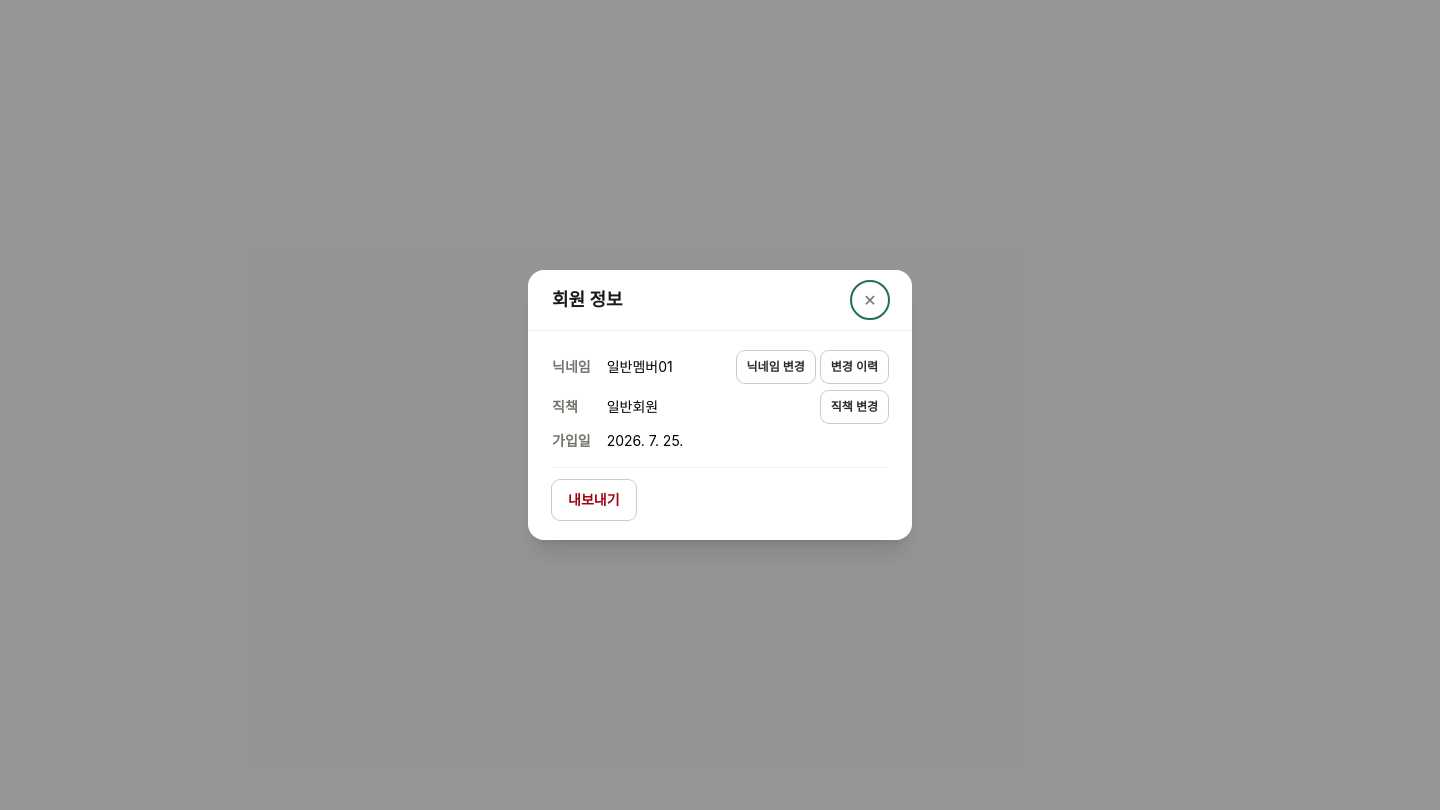
it: MemberInfoDialog › 직책 변경은 다음 대화상자에서 한다
Click the button "직책 변경": [854, 407] box [821, 391, 888, 423]
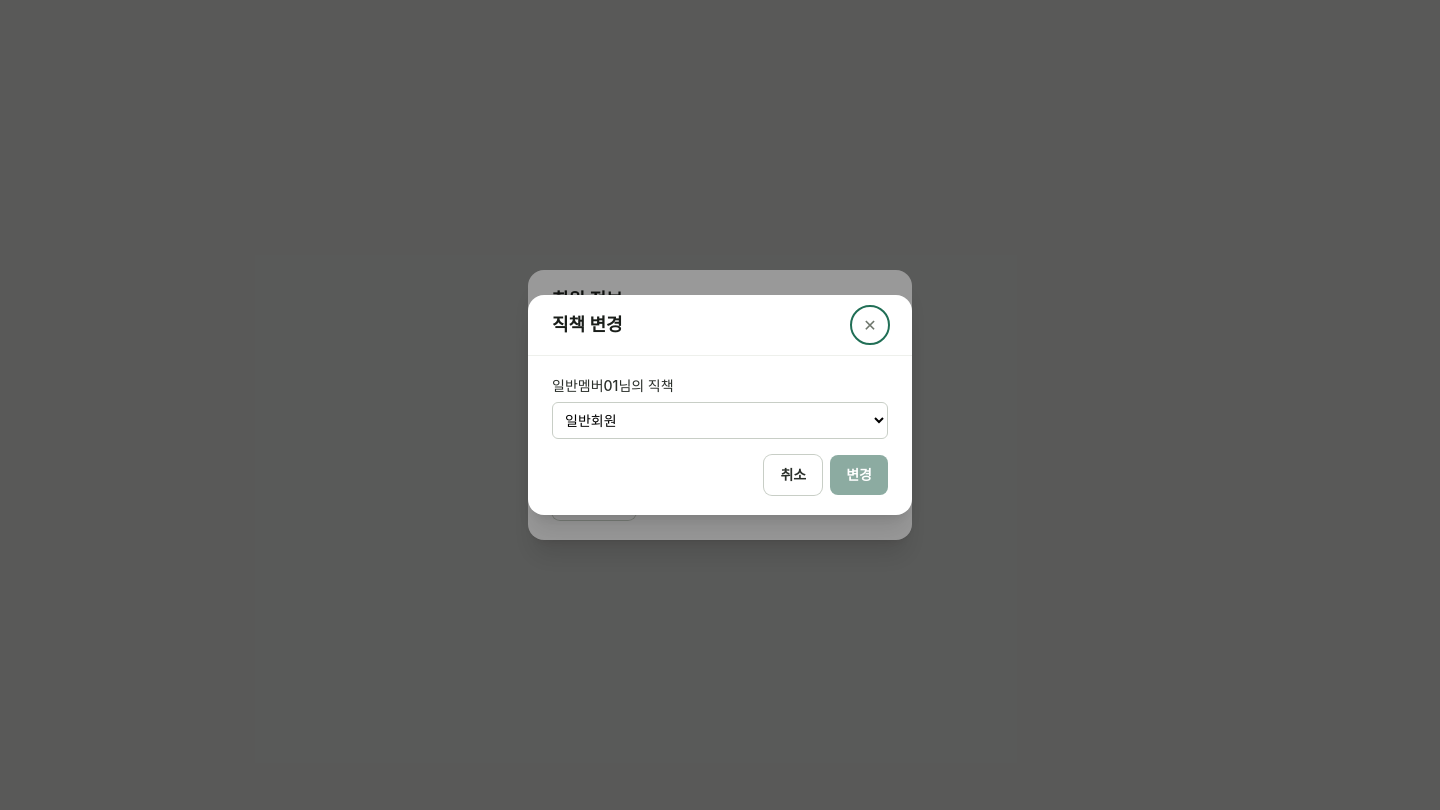
Check: the dropdown labelled "일반멤버01님의 직책" shows "일반회원", box [552, 402, 888, 439]
Check: the button "변경" is disabled, box [830, 455, 888, 495]
